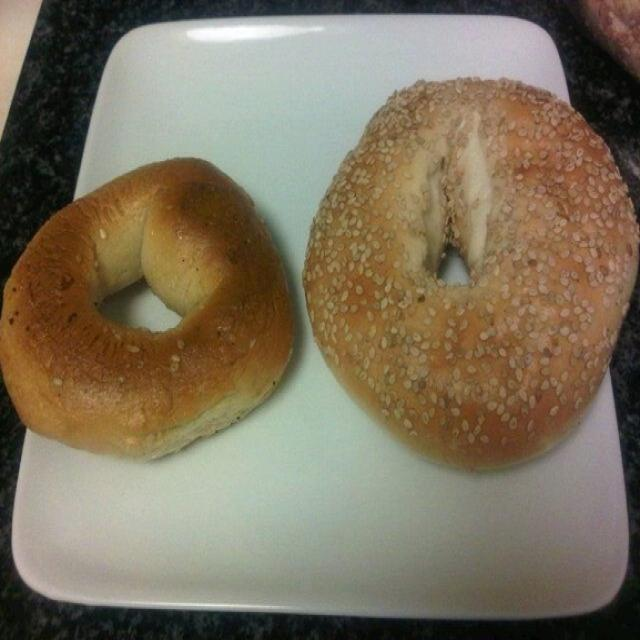面包点心: (3, 8, 636, 604)
